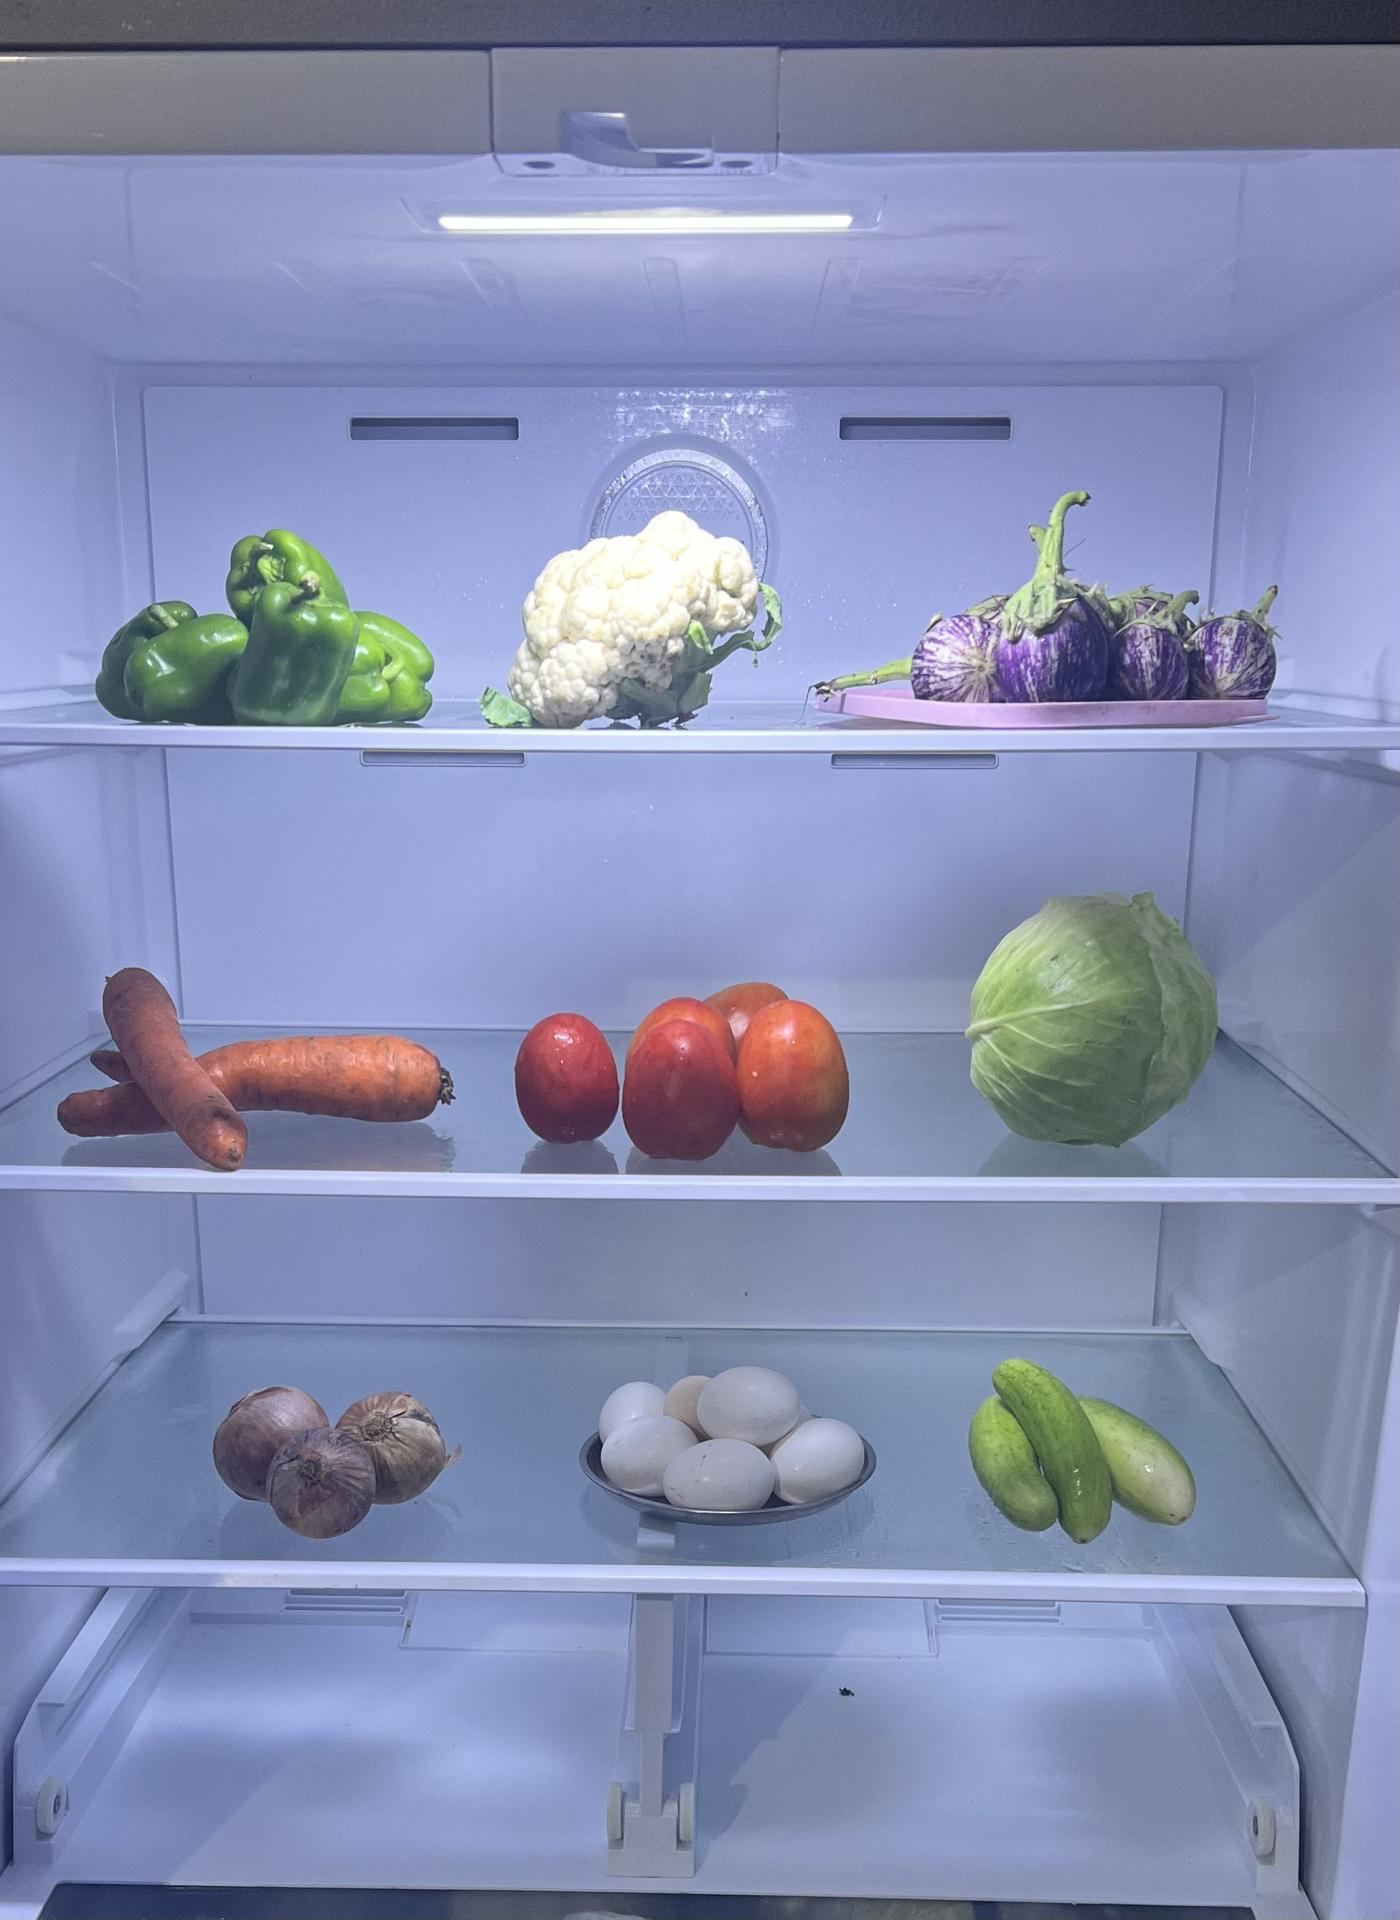brinjal: (899, 572, 1270, 704)
cabbage: (966, 887, 1220, 1139)
capsicum: (92, 525, 438, 726)
carrots: (57, 964, 450, 1172)
cauliflower: (504, 516, 766, 730)
cucumber: (966, 1360, 1203, 1547)
egg: (589, 1352, 872, 1506)
onion: (212, 1383, 443, 1531)
tomato: (511, 981, 860, 1164)
